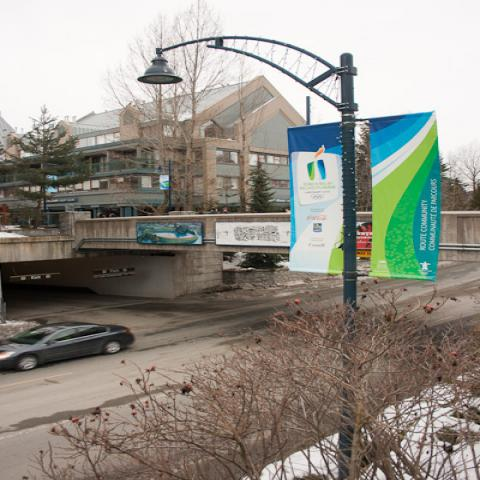car: (0, 322, 140, 374)
